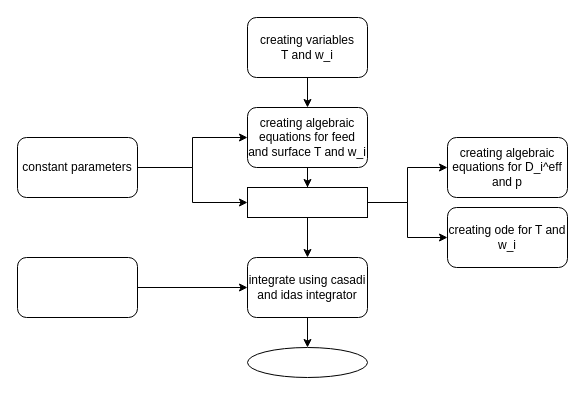
Some shapes in this 585 by 395 pixel diagram are drawn without their labels. Each missing label, with the centre of its shape:
"for each radius" belongs at (x=307, y=202).
"results" belongs at (x=307, y=362).
"start values" belongs at (x=77, y=287).
